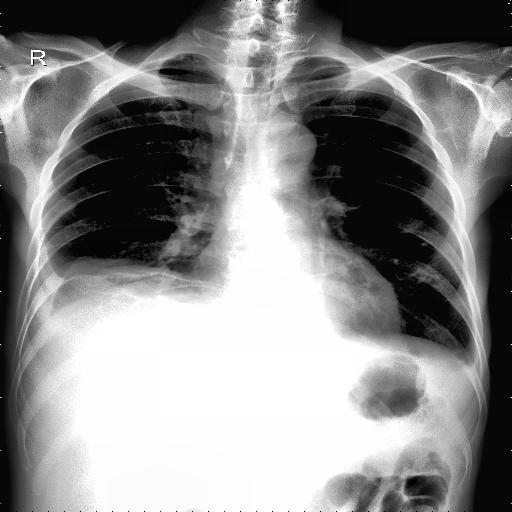10- Pleural effusion: (24, 218, 192, 350), (22, 253, 88, 353), (22, 252, 63, 308), (456, 340, 480, 381), (456, 352, 484, 383), (458, 342, 477, 370)
11- Pleural thickening: (456, 340, 480, 381), (456, 352, 484, 383), (458, 342, 477, 370)
4- Consolidation: (52, 262, 216, 336)
7- Lung Opacity: (66, 258, 190, 284)
